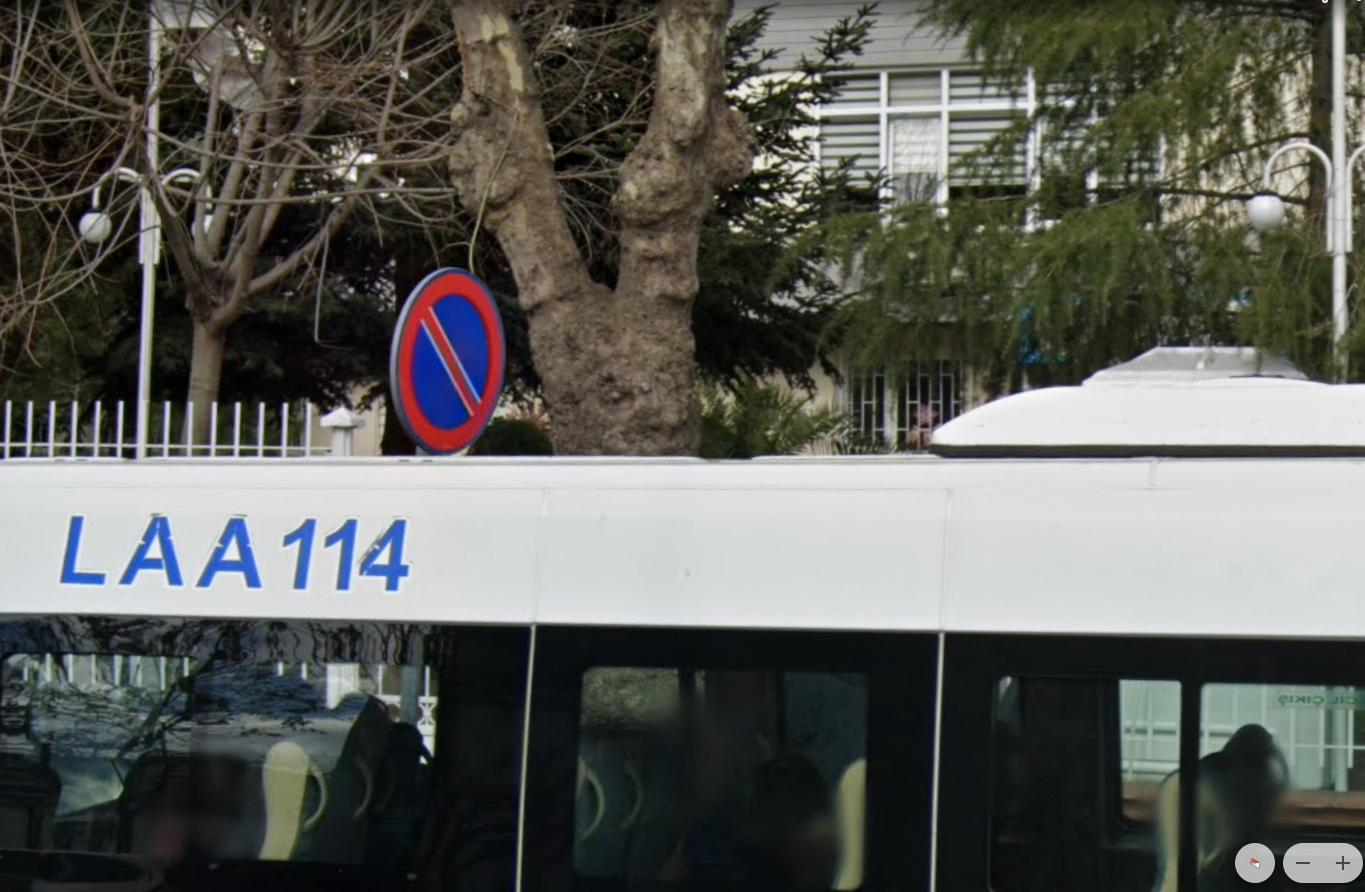nopark: (396, 267, 503, 445)
